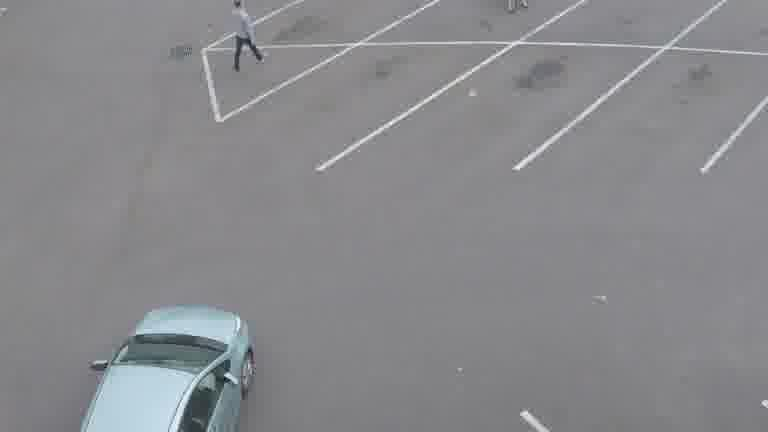cycle: (230, 2, 268, 74)
person: (76, 306, 257, 432)
